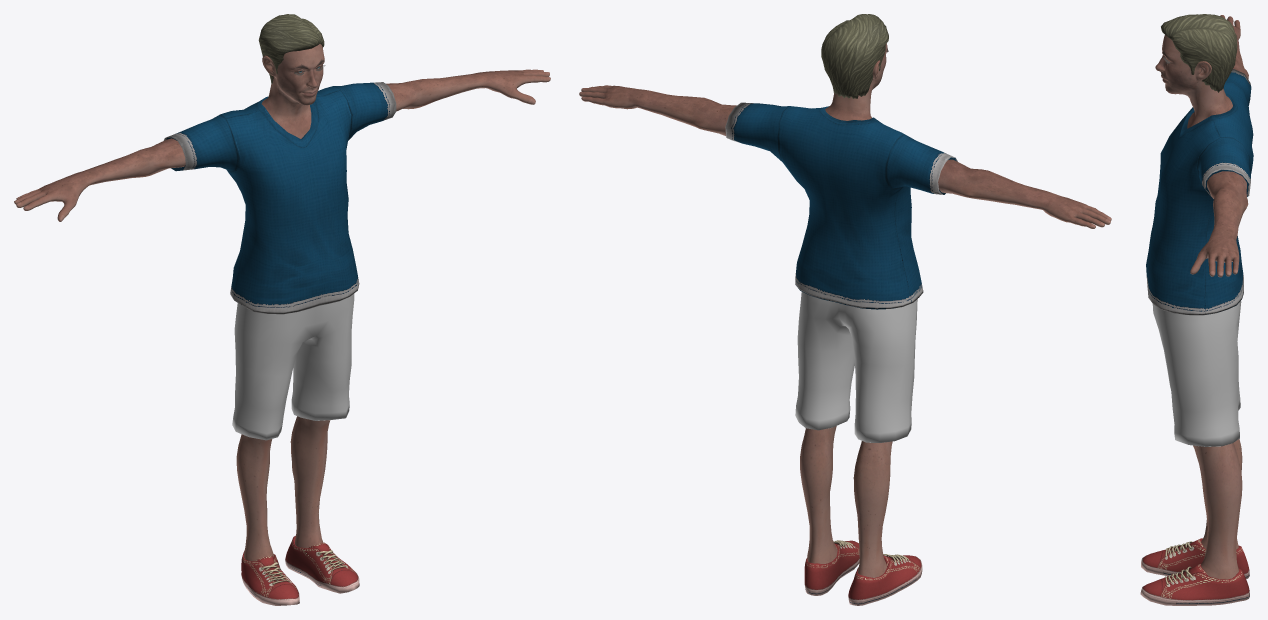
Rendered from Man D.obj.
The picture shows the model from 3 angles, left to right: view 1: azimuth 30°, elevation 25°; view 2: azimuth 150°, elevation 25°; view 3: azimuth 270°, elevation 25°; orthographic projection.
Parts seen in each view (by area): view 1: Tops, Body, Bottoms, Shoes, Hair; view 2: Tops, Body, Bottoms, Hair, Shoes; view 3: Tops, Body, Bottoms, Shoes, Hair.
Part boxes in pixels (x1,y1,x2,y2): Tops: [163, 82, 396, 314]; Body: [14, 44, 550, 561]; Bottoms: [232, 293, 354, 440]; Shoes: [241, 535, 359, 605]; Hair: [258, 14, 324, 83]; Tops: [725, 102, 957, 309]; Body: [579, 43, 1111, 577]; Bottoms: [795, 292, 917, 442]; Hair: [821, 14, 888, 98]; Shoes: [804, 540, 922, 605]; Tops: [1146, 69, 1253, 315]; Body: [1155, 15, 1248, 579]; Bottoms: [1152, 301, 1241, 446]; Shoes: [1140, 538, 1249, 605]; Hair: [1161, 14, 1237, 92].
Size of the model in its own units: 176 by 179 by 32.14.
